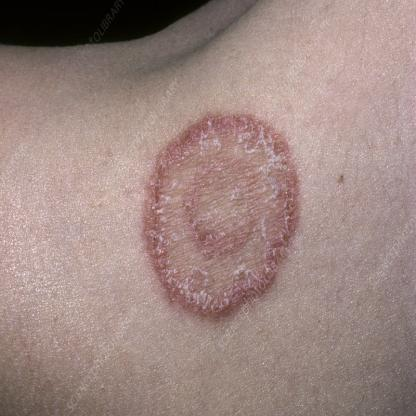Ringworm: (139, 108, 307, 321)
